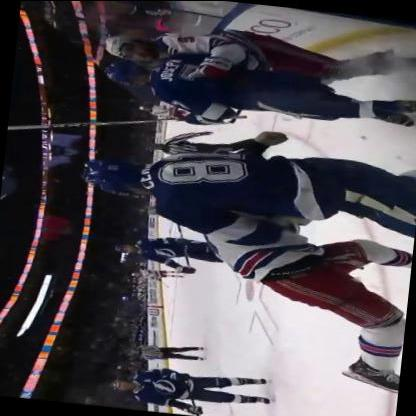non-Voilence: (94, 12, 415, 144), (103, 356, 275, 416)
voilence: (65, 111, 415, 346)
